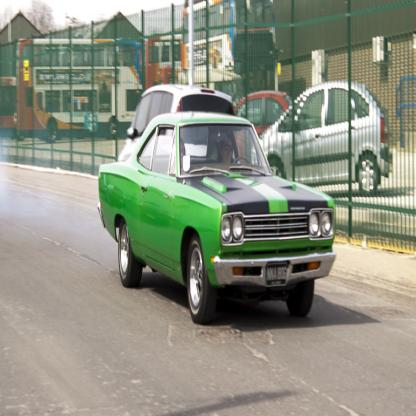Car: (98, 81, 338, 325), (253, 79, 394, 198), (117, 84, 235, 163), (234, 89, 294, 164)
